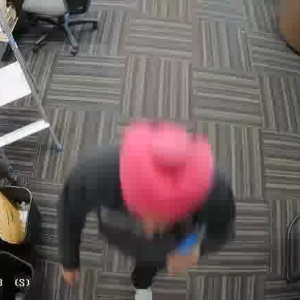person: (55, 102, 227, 287)
